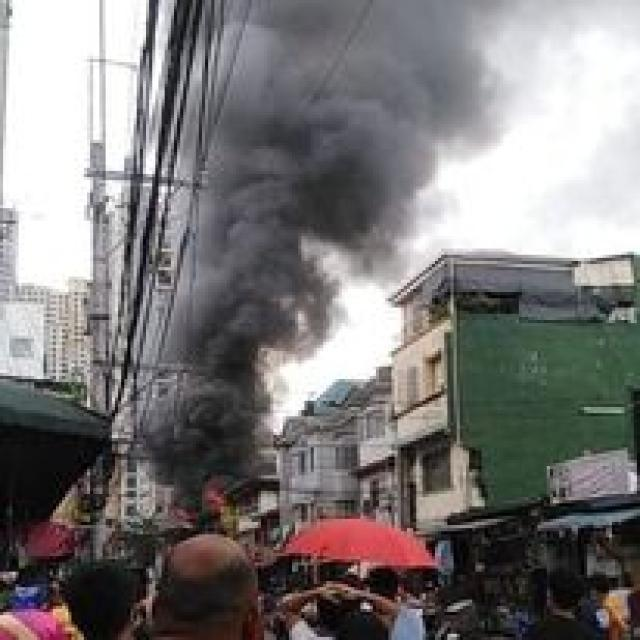Fire: (198, 483, 232, 520), (164, 500, 197, 537)
Smoke: (126, 0, 507, 523)
